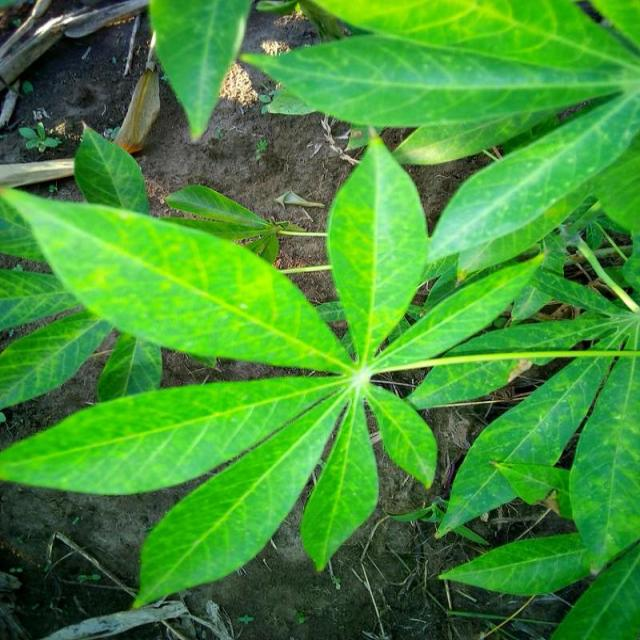cassava leaf: (2, 2, 639, 628), (1, 183, 352, 374), (326, 134, 431, 362)
